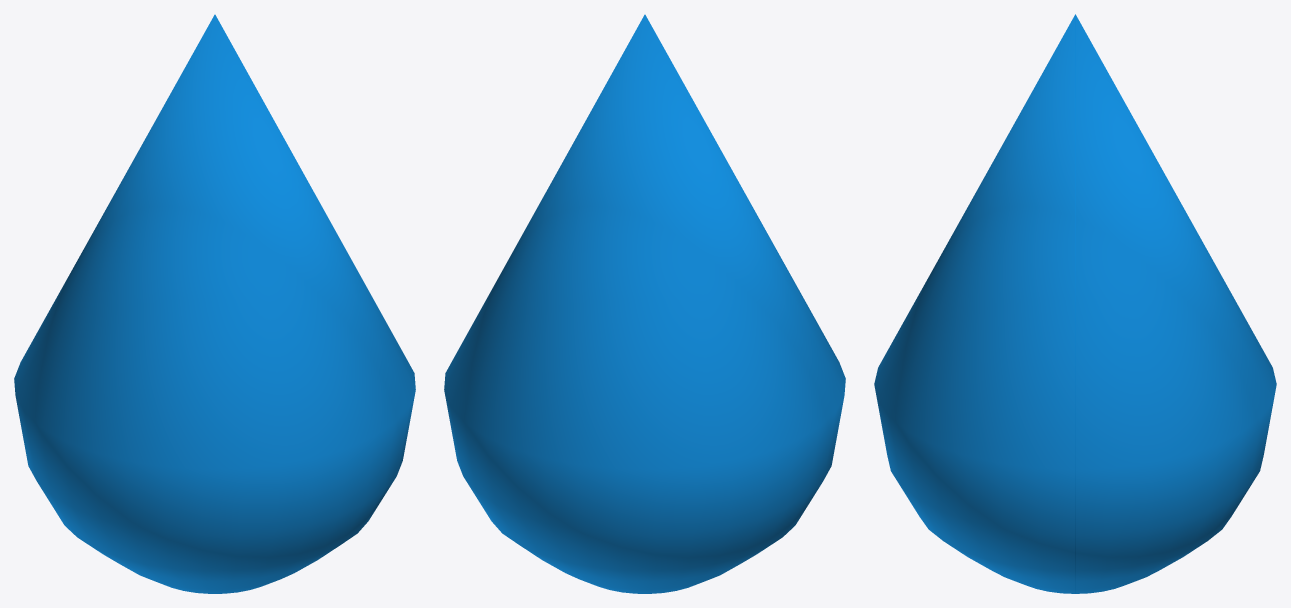
The model's file is Wassertropfen.fbx.
3 views of the same model, side by side, from view 1: azimuth 30°, elevation 25°; view 2: azimuth 150°, elevation 25°; view 3: azimuth 270°, elevation 25° (orthographic).
Parts seen in each view (by area): view 1: Cone.001; view 2: Cone.001; view 3: Cone.001.
Boxes of the visible parts, <box> form: Cone.001: <box>14,14,415,593</box>; Cone.001: <box>444,14,845,593</box>; Cone.001: <box>874,14,1276,593</box>.
Size of the model in its own units: 185 by 287 by 185.
